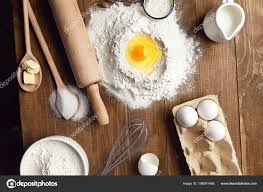Eggs: (180, 104, 228, 142)
